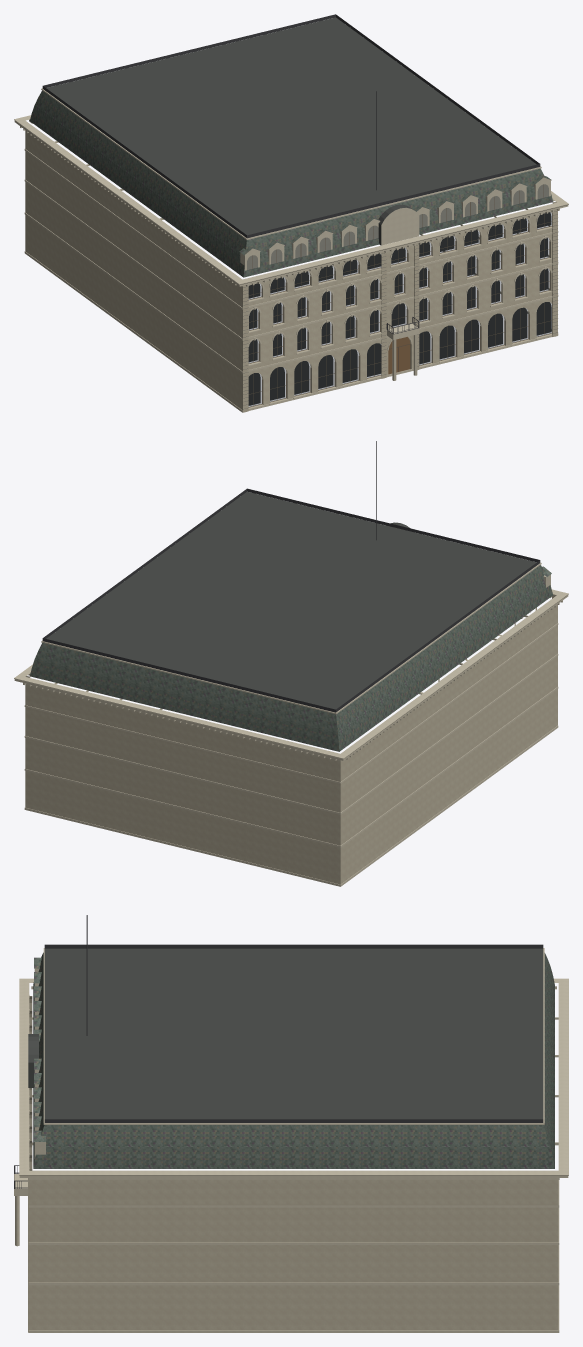
The model's file is crosbys_opera_house_1871__opera_house_1865_1871.glb.
3 renders of one model, top to bottom at view 1: azimuth 30°, elevation 25°; view 2: azimuth 150°, elevation 25°; view 3: azimuth 270°, elevation 25°, orthographic. The views are drawn at different scales.
Parts seen in each view (by area): view 1: crosbys_opera_house_1871__opera_house_1865_1871; view 2: crosbys_opera_house_1871__opera_house_1865_1871; view 3: crosbys_opera_house_1871__opera_house_1865_1871.
Boxes of the visible parts, box(x1,y1,x2,y2) form: crosbys_opera_house_1871__opera_house_1865_1871: box(14, 14, 568, 412); crosbys_opera_house_1871__opera_house_1865_1871: box(14, 441, 568, 886); crosbys_opera_house_1871__opera_house_1865_1871: box(14, 915, 568, 1332).
Size of the model in its own units: 48.22 by 37.1 by 57.66.
10 materials, 3 textured.
